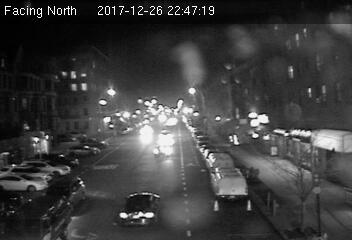car: (118, 191, 161, 224), (46, 177, 85, 207), (152, 144, 171, 156)
truck: (211, 168, 250, 199)
